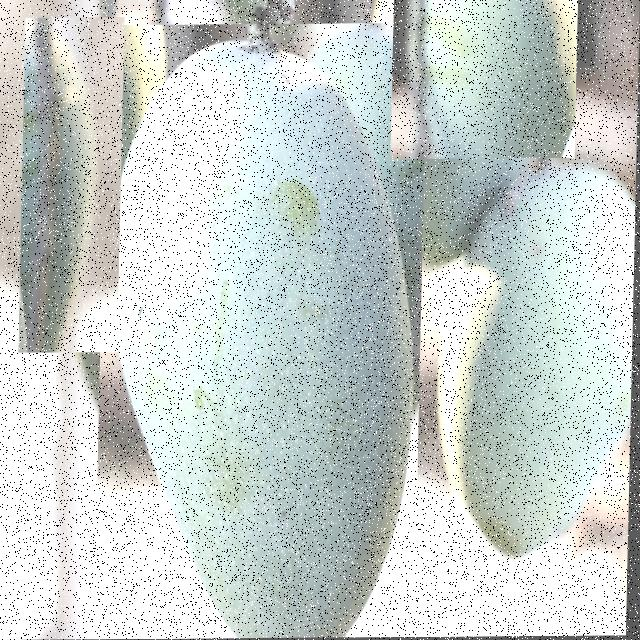raw-image: (97, 24, 428, 639), (448, 169, 637, 560), (20, 17, 125, 353), (391, 0, 578, 160)
